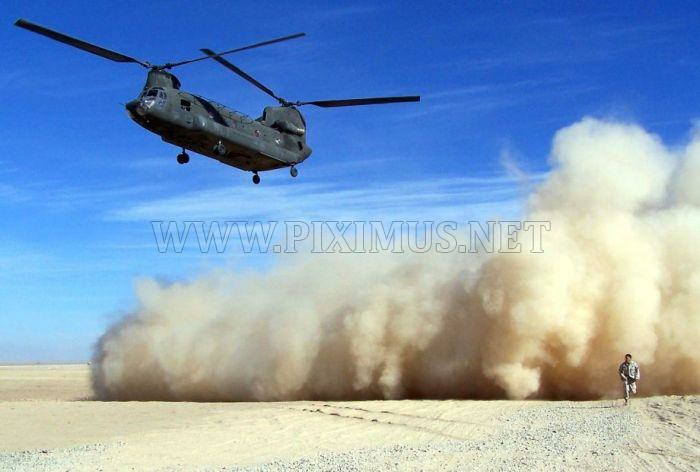chinook: (39, 34, 449, 184)
